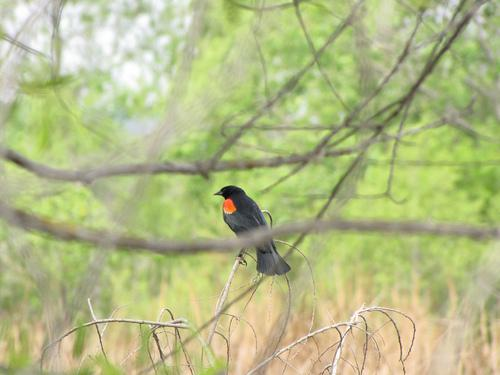010.Red_winged_Blackbird: (210, 183, 293, 279)
